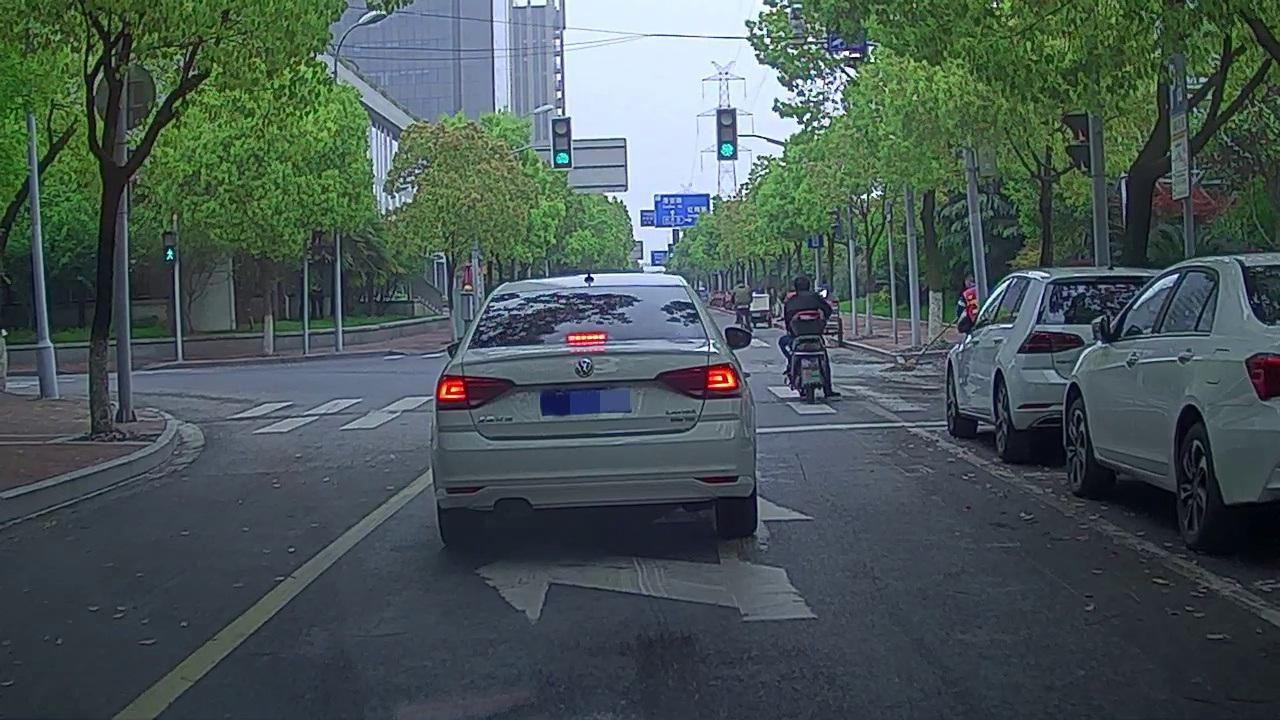traffic_light: (551, 119, 571, 170), (718, 109, 737, 161)
